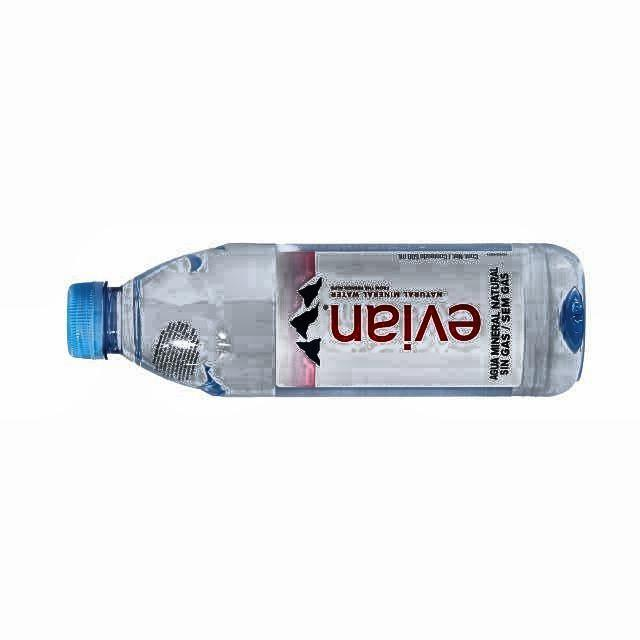plastic: (68, 244, 585, 396)
